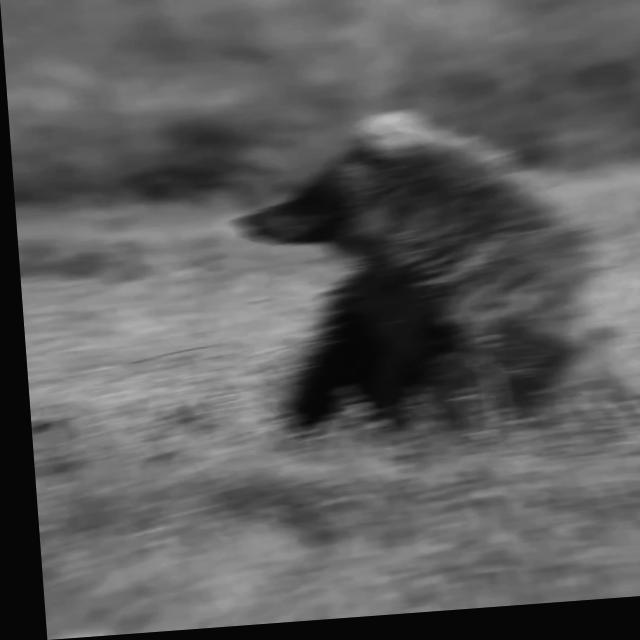Bear: (221, 92, 640, 451)
